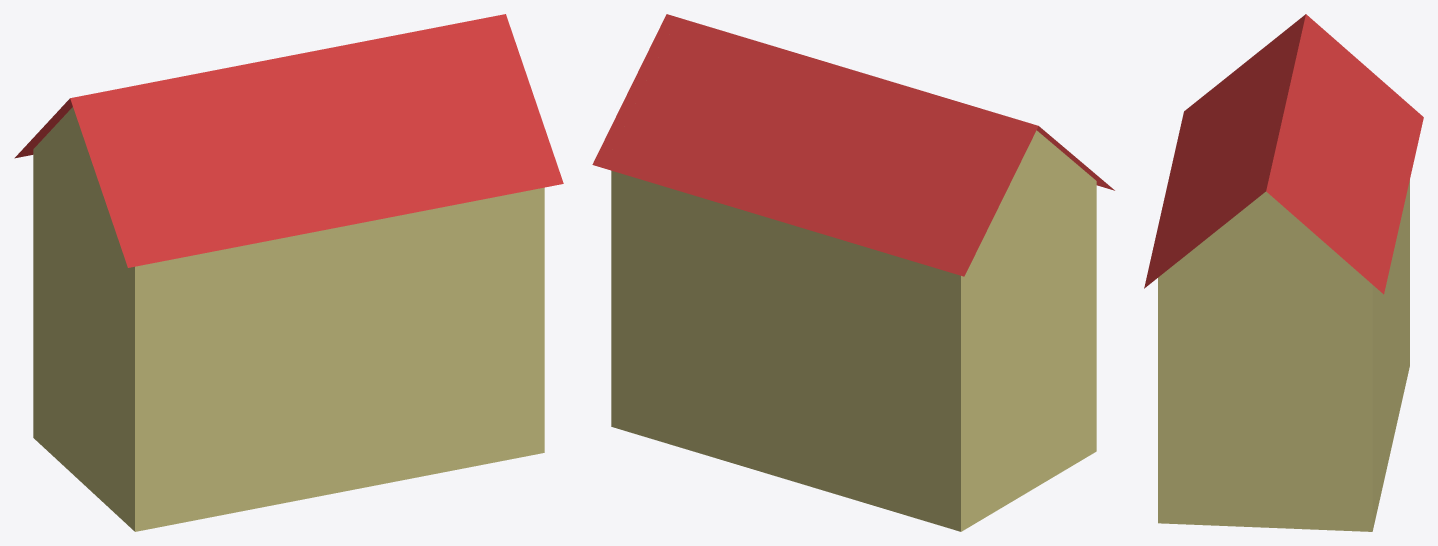
3 views of the same model, side by side, from view 1: azimuth 30°, elevation 25°; view 2: azimuth 150°, elevation 25°; view 3: azimuth 270°, elevation 25° (orthographic). The views are drawn at different scales.
Size of the model in its own units: 17.55 by 11.1 by 14.95.
